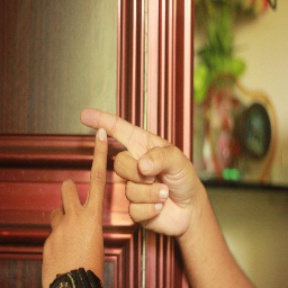T: (49, 102, 169, 243)
